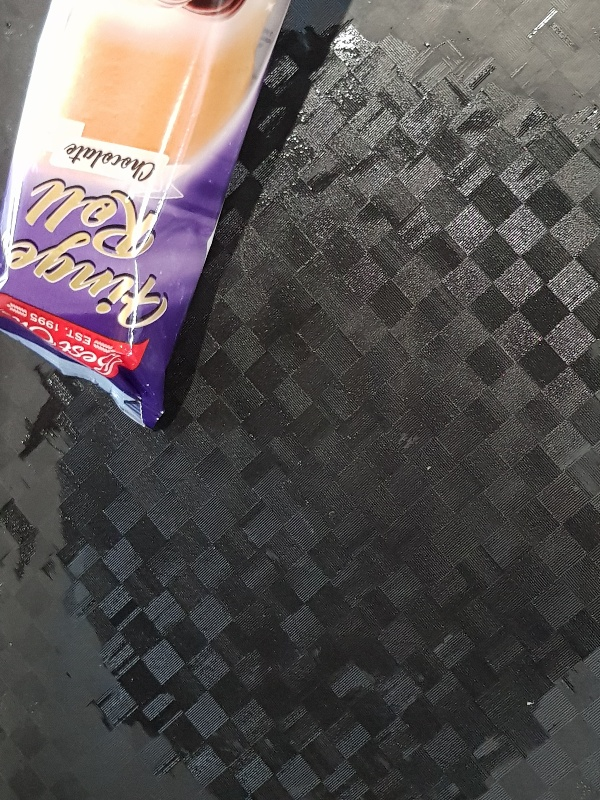Tinges Roll Chocolate: (1, 1, 291, 428)
